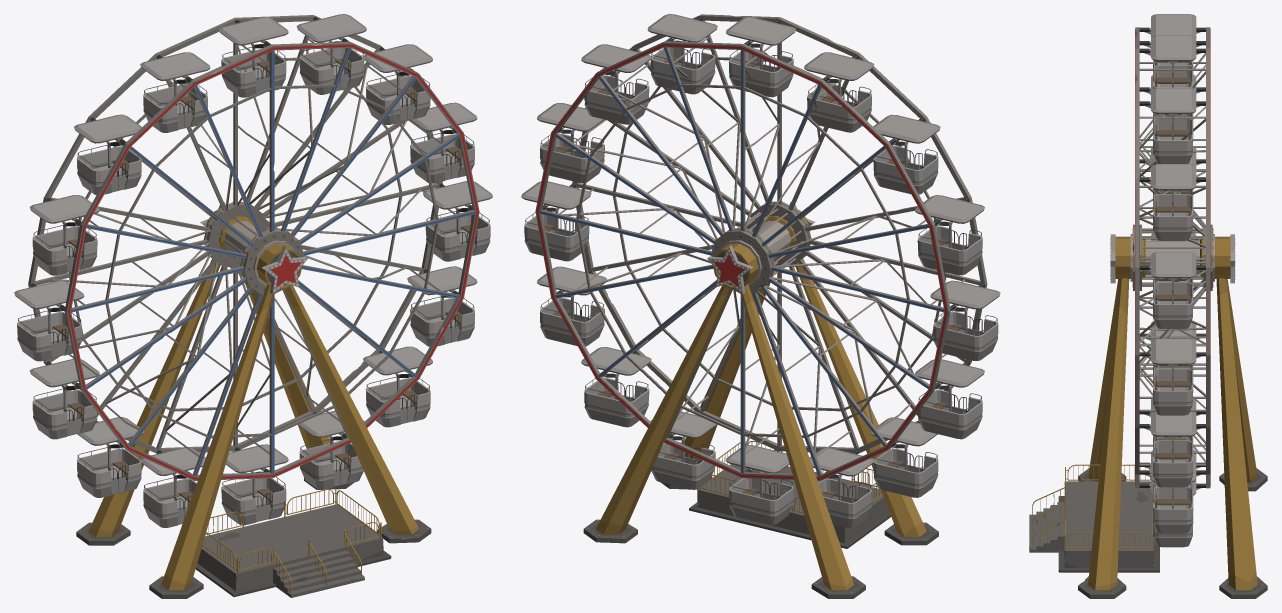
Rendered from SM_Bldg_City_AmusementPark_FerrisWheel.fbx.
The picture shows the model from 3 angles, left to right: view 1: azimuth 30°, elevation 25°; view 2: azimuth 150°, elevation 25°; view 3: azimuth 270°, elevation 25°; orthographic projection. The views are drawn at different scales.
Parts seen in each view (by area): view 1: SM_Bldg_City_AmusementPark_FerrisWheel_Wheel, SM_Bldg_City_AmusementPark_FerrisWheel, SM_Bldg_City_AmusementPark_FerrisWheel_Cabin_04, SM_Bldg_City_AmusementPark_FerrisWheel_Cabin_01, SM_Bldg_City_AmusementPark_FerrisWheel_Cabin_05, SM_Bldg_City_AmusementPark_FerrisWheel_Cabin_06, SM_Bldg_City_AmusementPark_FerrisWheel_Cabin_07, SM_Bldg_City_AmusementPark_FerrisWheel_Cabin_03, SM_Bldg_City_AmusementPark_FerrisWheel_Cabin_10, SM_Bldg_City_AmusementPark_FerrisWheel_Cabin_08, SM_Bldg_City_AmusementPark_FerrisWheel_Cabin_09, SM_Bldg_City_AmusementPark_FerrisWheel_Cabin_15 (+6 smaller); view 2: SM_Bldg_City_AmusementPark_FerrisWheel_Wheel, SM_Bldg_City_AmusementPark_FerrisWheel, SM_Bldg_City_AmusementPark_FerrisWheel_Cabin_04, SM_Bldg_City_AmusementPark_FerrisWheel_Cabin_01, SM_Bldg_City_AmusementPark_FerrisWheel_Cabin_05, SM_Bldg_City_AmusementPark_FerrisWheel_Cabin_06, SM_Bldg_City_AmusementPark_FerrisWheel_Cabin_03, SM_Bldg_City_AmusementPark_FerrisWheel_Cabin_07, SM_Bldg_City_AmusementPark_FerrisWheel_Cabin_10, SM_Bldg_City_AmusementPark_FerrisWheel_Cabin_08, SM_Bldg_City_AmusementPark_FerrisWheel_Cabin_09, SM_Bldg_City_AmusementPark_FerrisWheel_Cabin_15 (+6 smaller); view 3: SM_Bldg_City_AmusementPark_FerrisWheel, SM_Bldg_City_AmusementPark_FerrisWheel_Wheel, SM_Bldg_City_AmusementPark_FerrisWheel_Cabin_13, SM_Bldg_City_AmusementPark_FerrisWheel_Cabin_11, SM_Bldg_City_AmusementPark_FerrisWheel_Cabin_12, SM_Bldg_City_AmusementPark_FerrisWheel_Cabin_10, SM_Bldg_City_AmusementPark_FerrisWheel_Cabin_14, SM_Bldg_City_AmusementPark_FerrisWheel_Cabin_09, SM_Bldg_City_AmusementPark_FerrisWheel_Cabin_15, SM_Bldg_City_AmusementPark_FerrisWheel_Cabin_08, SM_Bldg_City_AmusementPark_FerrisWheel_Cabin_16, SM_Bldg_City_AmusementPark_FerrisWheel_Cabin_03 (+1 smaller).
Boxes of the visible parts, left/top/right/bottom form: SM_Bldg_City_AmusementPark_FerrisWheel_Wheel: left=28, top=15, right=479, bottom=480; SM_Bldg_City_AmusementPark_FerrisWheel: left=76, top=202, right=431, bottom=598; SM_Bldg_City_AmusementPark_FerrisWheel_Cabin_04: left=29, top=358, right=99, bottom=439; SM_Bldg_City_AmusementPark_FerrisWheel_Cabin_01: left=221, top=444, right=288, bottom=525; SM_Bldg_City_AmusementPark_FerrisWheel_Cabin_05: left=14, top=280, right=84, bottom=361; SM_Bldg_City_AmusementPark_FerrisWheel_Cabin_06: left=29, top=195, right=99, bottom=275; SM_Bldg_City_AmusementPark_FerrisWheel_Cabin_07: left=74, top=114, right=141, bottom=194; SM_Bldg_City_AmusementPark_FerrisWheel_Cabin_03: left=77, top=417, right=143, bottom=497; SM_Bldg_City_AmusementPark_FerrisWheel_Cabin_10: left=296, top=14, right=366, bottom=94; SM_Bldg_City_AmusementPark_FerrisWheel_Cabin_08: left=140, top=52, right=210, bottom=132; SM_Bldg_City_AmusementPark_FerrisWheel_Cabin_09: left=218, top=16, right=288, bottom=97; SM_Bldg_City_AmusementPark_FerrisWheel_Cabin_15: left=363, top=346, right=432, bottom=427; SM_Bldg_City_AmusementPark_FerrisWheel_Wheel: left=535, top=14, right=987, bottom=480; SM_Bldg_City_AmusementPark_FerrisWheel: left=583, top=201, right=938, bottom=598; SM_Bldg_City_AmusementPark_FerrisWheel_Cabin_04: left=915, top=359, right=984, bottom=439; SM_Bldg_City_AmusementPark_FerrisWheel_Cabin_01: left=726, top=445, right=793, bottom=525; SM_Bldg_City_AmusementPark_FerrisWheel_Cabin_05: left=930, top=280, right=1000, bottom=360; SM_Bldg_City_AmusementPark_FerrisWheel_Cabin_06: left=915, top=195, right=984, bottom=275; SM_Bldg_City_AmusementPark_FerrisWheel_Cabin_03: left=870, top=417, right=938, bottom=497; SM_Bldg_City_AmusementPark_FerrisWheel_Cabin_07: left=873, top=114, right=940, bottom=194; SM_Bldg_City_AmusementPark_FerrisWheel_Cabin_10: left=647, top=14, right=717, bottom=94; SM_Bldg_City_AmusementPark_FerrisWheel_Cabin_08: left=804, top=52, right=874, bottom=132; SM_Bldg_City_AmusementPark_FerrisWheel_Cabin_09: left=726, top=16, right=795, bottom=97; SM_Bldg_City_AmusementPark_FerrisWheel_Cabin_15: left=581, top=347, right=651, bottom=427; SM_Bldg_City_AmusementPark_FerrisWheel: left=1029, top=234, right=1267, bottom=598; SM_Bldg_City_AmusementPark_FerrisWheel_Wheel: left=1130, top=27, right=1214, bottom=488; SM_Bldg_City_AmusementPark_FerrisWheel_Cabin_13: left=1139, top=338, right=1205, bottom=415; SM_Bldg_City_AmusementPark_FerrisWheel_Cabin_11: left=1139, top=164, right=1205, bottom=240; SM_Bldg_City_AmusementPark_FerrisWheel_Cabin_12: left=1139, top=252, right=1205, bottom=328; SM_Bldg_City_AmusementPark_FerrisWheel_Cabin_10: left=1139, top=88, right=1205, bottom=163; SM_Bldg_City_AmusementPark_FerrisWheel_Cabin_14: left=1139, top=411, right=1205, bottom=487; SM_Bldg_City_AmusementPark_FerrisWheel_Cabin_09: left=1139, top=35, right=1205, bottom=88; SM_Bldg_City_AmusementPark_FerrisWheel_Cabin_15: left=1139, top=457, right=1205, bottom=533; SM_Bldg_City_AmusementPark_FerrisWheel_Cabin_08: left=1139, top=14, right=1205, bottom=67; SM_Bldg_City_AmusementPark_FerrisWheel_Cabin_16: left=1139, top=479, right=1205, bottom=547; SM_Bldg_City_AmusementPark_FerrisWheel_Cabin_03: left=1141, top=321, right=1205, bottom=370.
Size of the model in its own units: 21.89 by 22.9 by 10.13.
